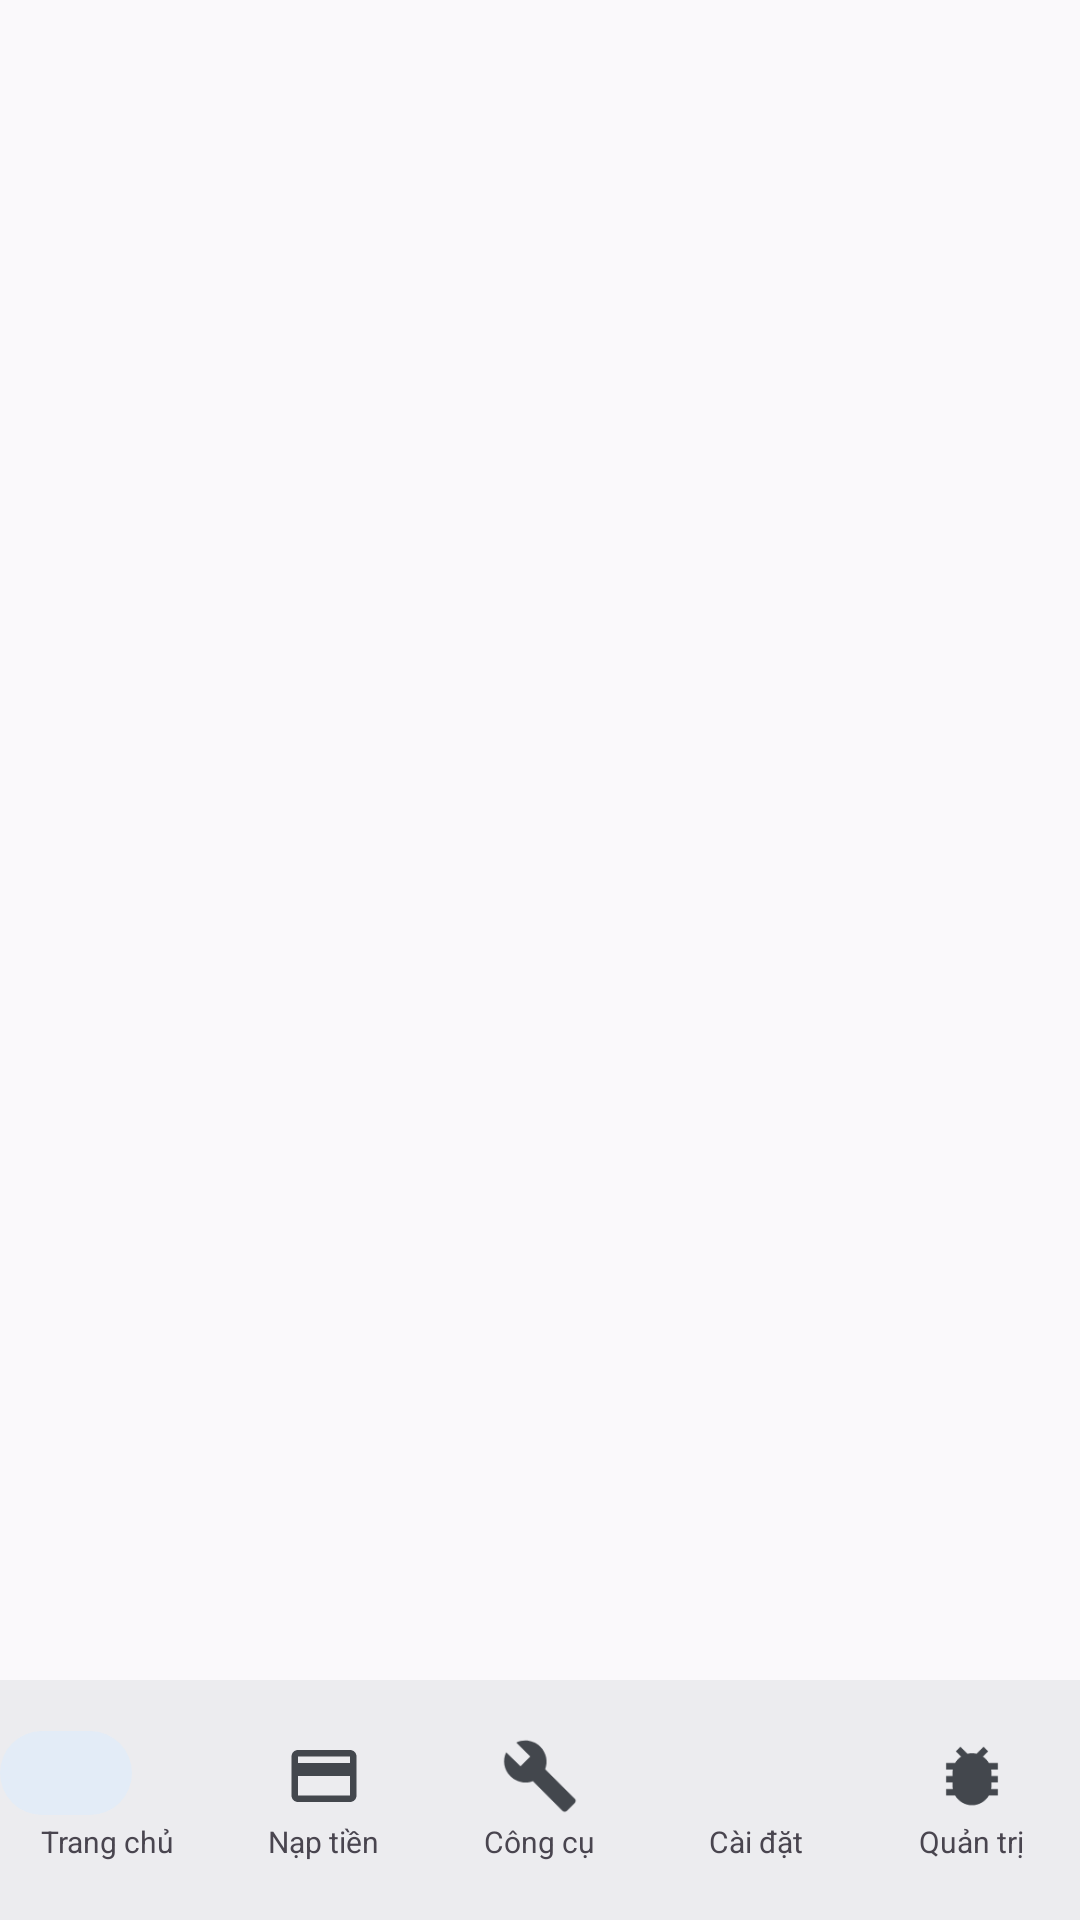

Where to tap for icons on this 1080x1920 app screen, as point (x, y):
bug: point (972, 1776)
